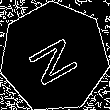N_NE: (23, 27, 86, 87)
